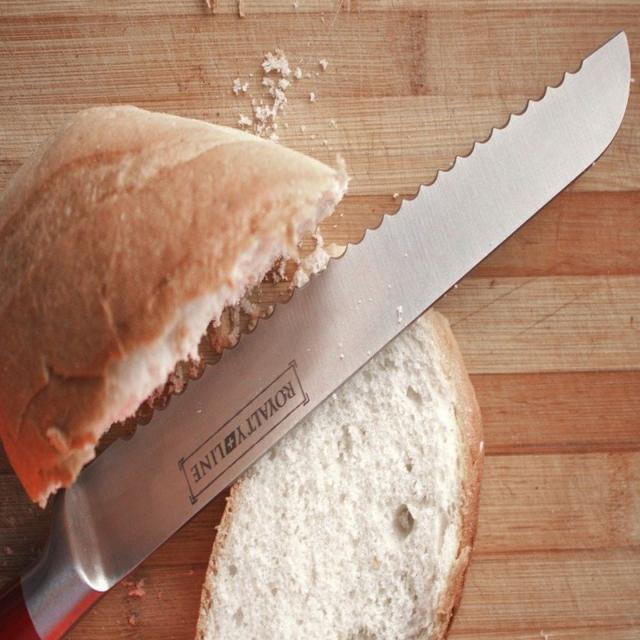Knife: (0, 32, 630, 639)
